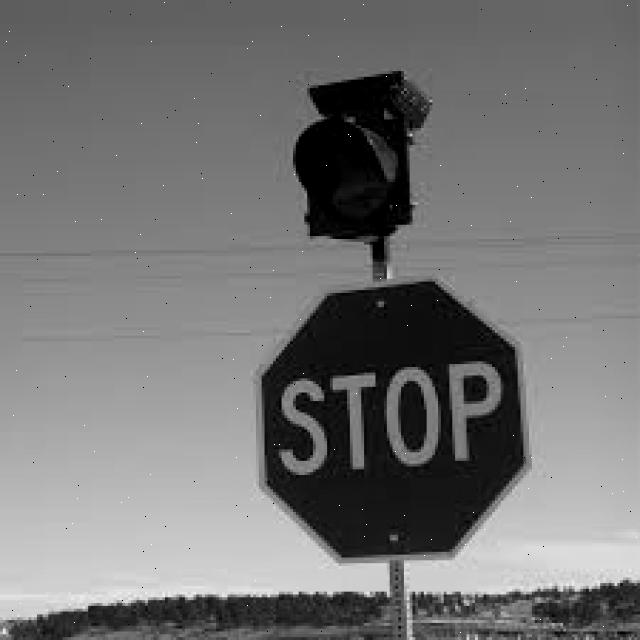stop sign: (257, 284, 525, 554)
